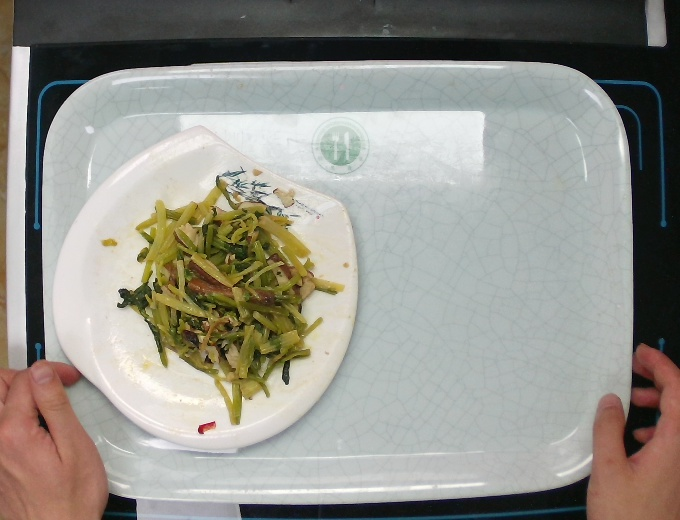JYsf-Mian_Pan: (49, 124, 368, 454)
